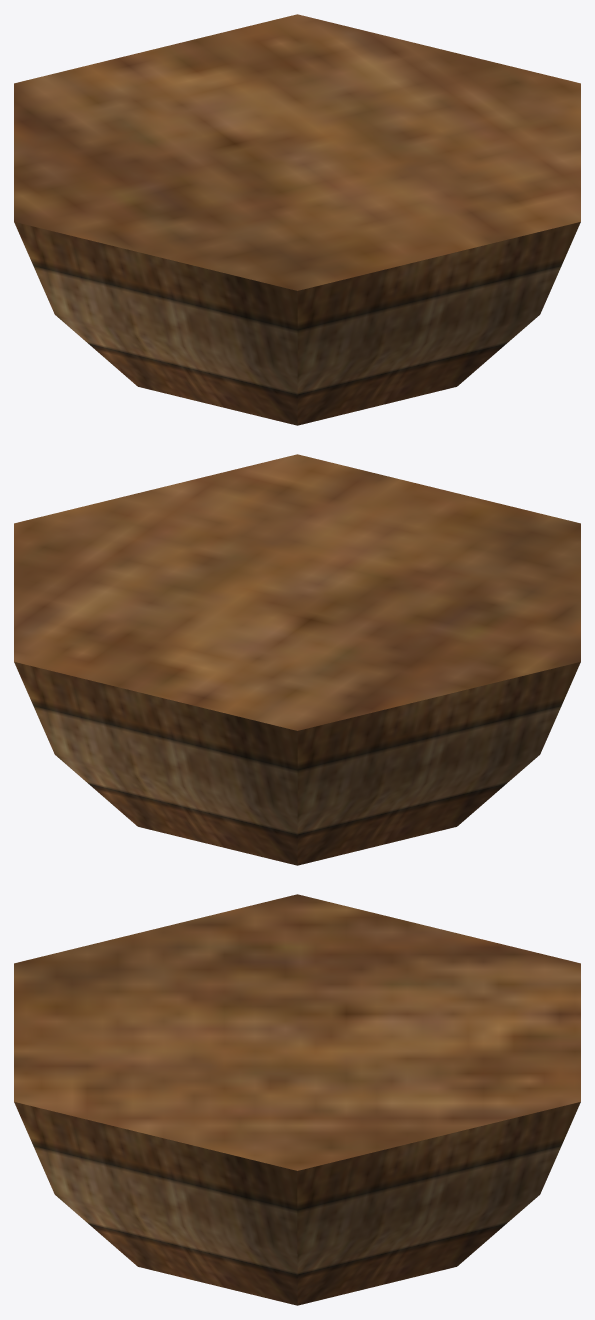
File: M_Home_Garden_Candle_holder_12.fbx
3 views of the same model, one above another, from view 1: azimuth 30°, elevation 25°; view 2: azimuth 150°, elevation 25°; view 3: azimuth 270°, elevation 25° (orthographic).
Parts seen in each view (by area): view 1: M_Home_Garden_Candle_holder_12; view 2: M_Home_Garden_Candle_holder_12; view 3: M_Home_Garden_Candle_holder_12.
Part boxes in pixels (x1,y1,x2,y2): M_Home_Garden_Candle_holder_12: (14,14,580,425); M_Home_Garden_Candle_holder_12: (14,454,580,865); M_Home_Garden_Candle_holder_12: (14,894,580,1305).
Bounding box in the file's own units: 14.29 × 4.7 × 12.38.
